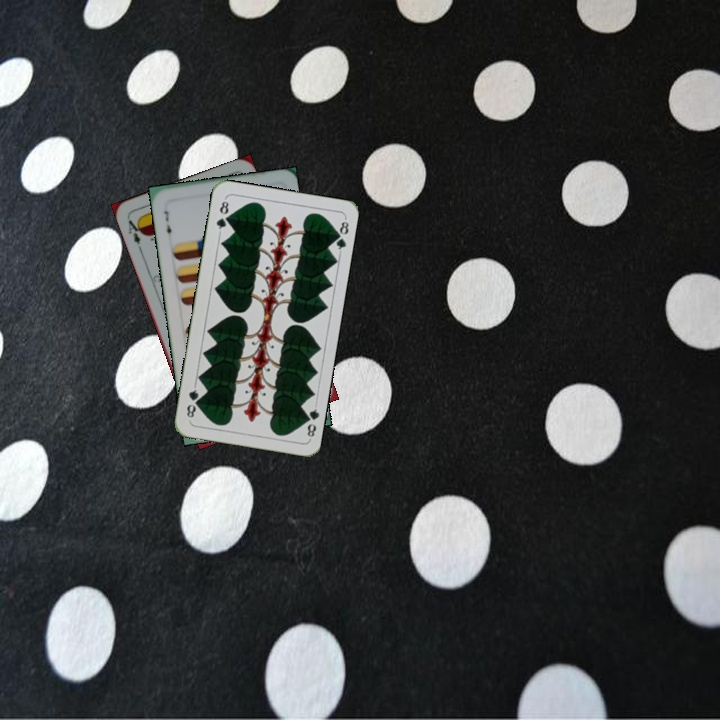E7: (160, 206, 174, 240)
EA: (124, 215, 146, 253)
G8: (299, 401, 321, 441), (212, 195, 231, 235)
